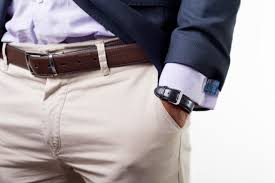F_belt: (1, 32, 155, 81)
